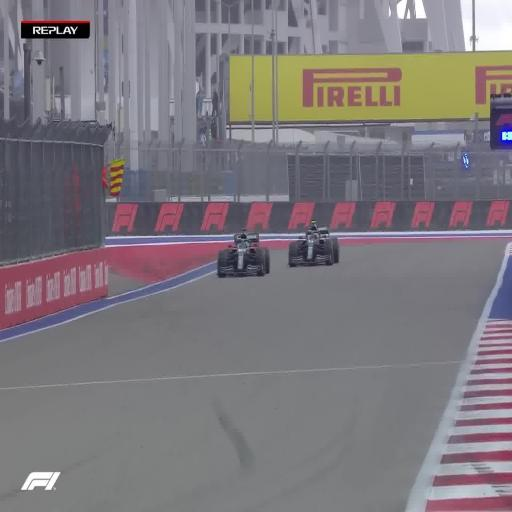f1_car: (217, 229, 269, 276), (288, 220, 339, 266)
